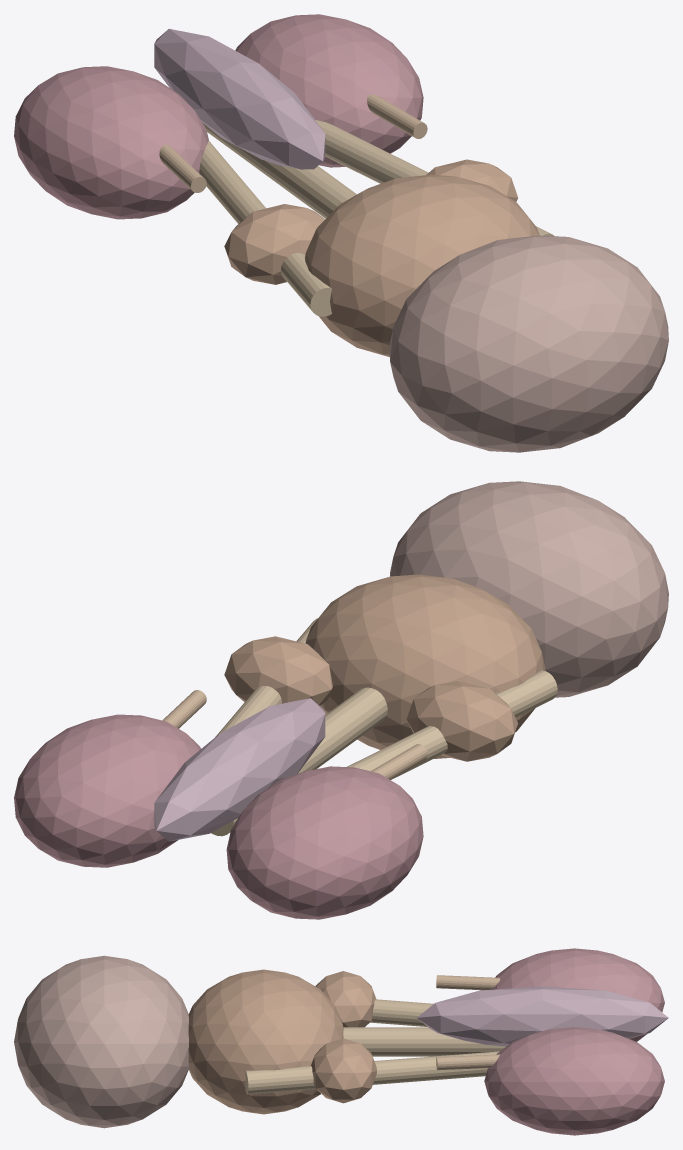
Rendered from male-medium.glb.
The picture shows the model from 3 angles, top to bottom: view 1: azimuth 30°, elevation 25°; view 2: azimuth 150°, elevation 25°; view 3: azimuth 270°, elevation 25°; orthographic projection. The views are drawn at different scales.
Visible parts, largest first — view 1: bladder_reference, left_testis, prostate_proxy, right_testis, erectile_tissue_proxy, left_seminal_vesicle_proxy, left_vas_deferens_proxy, urethral_path_proxy, right_vas_deferens_proxy, right_seminal_vesicle_proxy, right_epididymis_proxy, left_epididymis_proxy; view 2: bladder_reference, prostate_proxy, left_testis, right_testis, erectile_tissue_proxy, left_seminal_vesicle_proxy, right_seminal_vesicle_proxy, urethral_path_proxy, left_vas_deferens_proxy, right_vas_deferens_proxy, left_epididymis_proxy, right_epididymis_proxy; view 3: bladder_reference, prostate_proxy, right_testis, erectile_tissue_proxy, left_testis, right_vas_deferens_proxy, urethral_path_proxy, right_seminal_vesicle_proxy, left_seminal_vesicle_proxy, left_vas_deferens_proxy, left_epididymis_proxy, right_epididymis_proxy.
Part boxes in pixels (left/top/right/bottom): bladder_reference: left=389, top=235, right=668, bottom=452; left_testis: left=14, top=66, right=208, bottom=219; prostate_proxy: left=305, top=174, right=539, bottom=357; right_testis: left=235, top=14, right=423, bottom=167; erectile_tissue_proxy: left=154, top=28, right=325, bottom=169; left_seminal_vesicle_proxy: left=224, top=204, right=325, bottom=284; left_vas_deferens_proxy: left=199, top=140, right=331, bottom=316; urethral_path_proxy: left=202, top=122, right=356, bottom=218; right_vas_deferens_proxy: left=315, top=120, right=554, bottom=236; right_seminal_vesicle_proxy: left=426, top=159, right=518, bottom=201; right_epididymis_proxy: left=367, top=94, right=427, bottom=138; left_epididymis_proxy: left=159, top=144, right=206, bottom=192; bladder_reference: left=390, top=481, right=668, bottom=697; prostate_proxy: left=305, top=574, right=545, bottom=758; left_testis: left=226, top=766, right=423, bottom=919; right_testis: left=14, top=714, right=200, bottom=867; erectile_tissue_proxy: left=154, top=698, right=325, bottom=841; left_seminal_vesicle_proxy: left=406, top=681, right=518, bottom=761; right_seminal_vesicle_proxy: left=224, top=636, right=332, bottom=705; urethral_path_proxy: left=211, top=687, right=387, bottom=836; left_vas_deferens_proxy: left=347, top=670, right=557, bottom=779; right_vas_deferens_proxy: left=215, top=618, right=317, bottom=737; left_epididymis_proxy: left=371, top=744, right=427, bottom=779; right_epididymis_proxy: left=162, top=690, right=206, bottom=728; bladder_reference: left=14, top=955, right=188, bottom=1128; prostate_proxy: left=188, top=969, right=343, bottom=1114; right_testis: left=484, top=1027, right=664, bottom=1135; erectile_tissue_proxy: left=417, top=986, right=668, bottom=1046; left_testis: left=492, top=948, right=664, bottom=1041; right_vas_deferens_proxy: left=245, top=1051, right=499, bottom=1094; urethral_path_proxy: left=343, top=1027, right=505, bottom=1056; right_seminal_vesicle_proxy: left=311, top=1038, right=376, bottom=1103; left_seminal_vesicle_proxy: left=315, top=971, right=376, bottom=1027; left_vas_deferens_proxy: left=370, top=999, right=433, bottom=1026; left_epididymis_proxy: left=436, top=975, right=500, bottom=990; right_epididymis_proxy: left=436, top=1054, right=499, bottom=1070.
Bounding box in the file's own units: 1.22 × 0.6 × 2.47.
